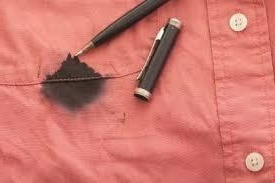ink: (44, 63, 99, 103)
